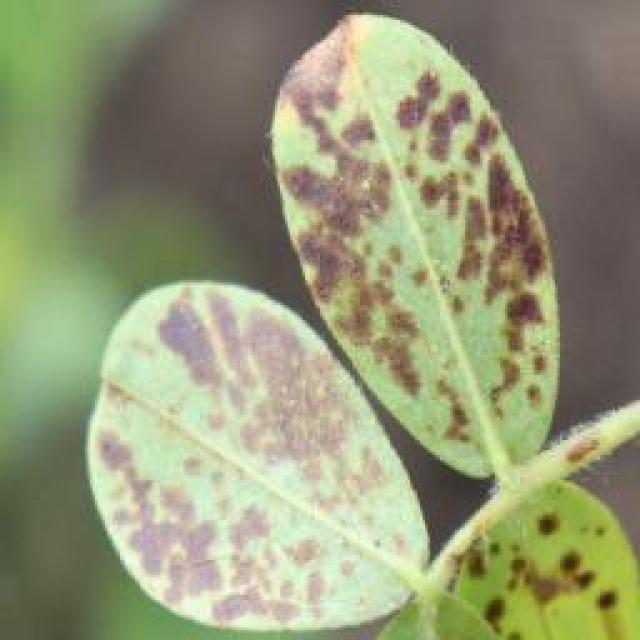Whitefly: (104, 24, 610, 626)
